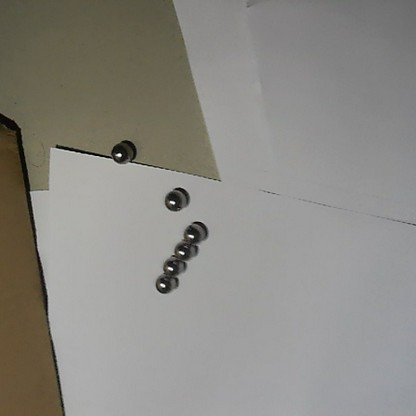ironball: (161, 255, 188, 279), (161, 189, 187, 212), (110, 141, 134, 165), (181, 221, 207, 243), (173, 238, 197, 259), (155, 274, 178, 294)
